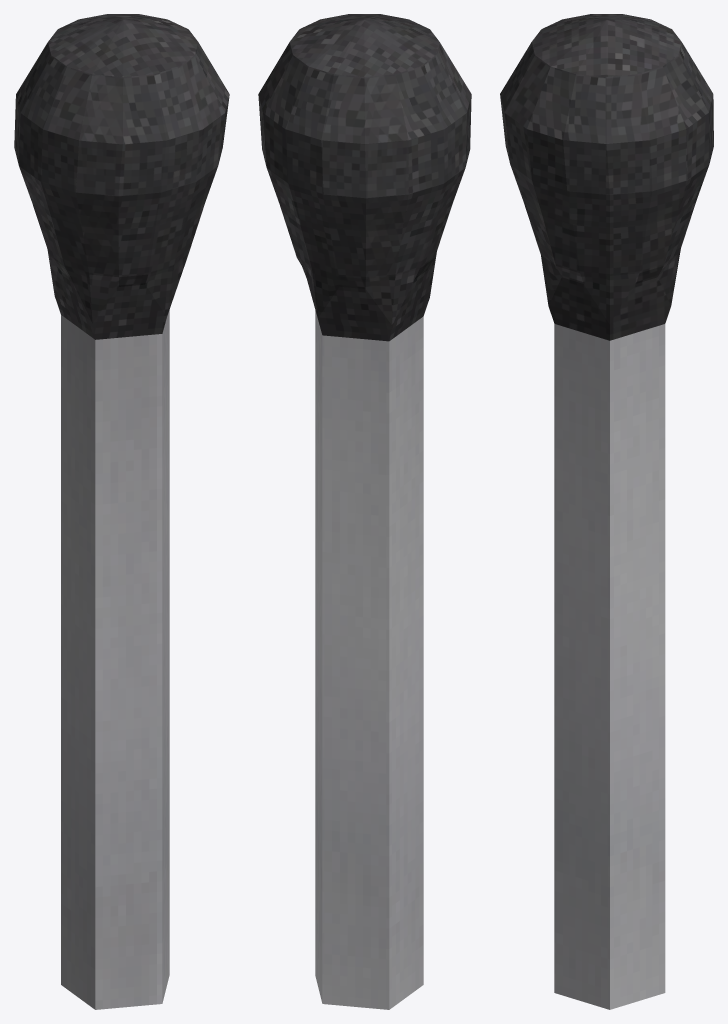
The model's file is Gearshift.glb.
The picture shows the model from 3 angles, left to right: view 1: azimuth 30°, elevation 25°; view 2: azimuth 150°, elevation 25°; view 3: azimuth 270°, elevation 25°; orthographic projection.
Parts seen in each view (by area): view 1: pCylinder1; view 2: pCylinder1; view 3: pCylinder1.
Part boxes in pixels (bbox=[...]): pCylinder1: bbox=[14, 14, 229, 1009]; pCylinder1: bbox=[258, 14, 471, 1009]; pCylinder1: bbox=[500, 14, 713, 1009].
Bounding box in the file's own units: 1.51 × 7.57 × 1.52.
Materials: 1 (1 with a texture image).
